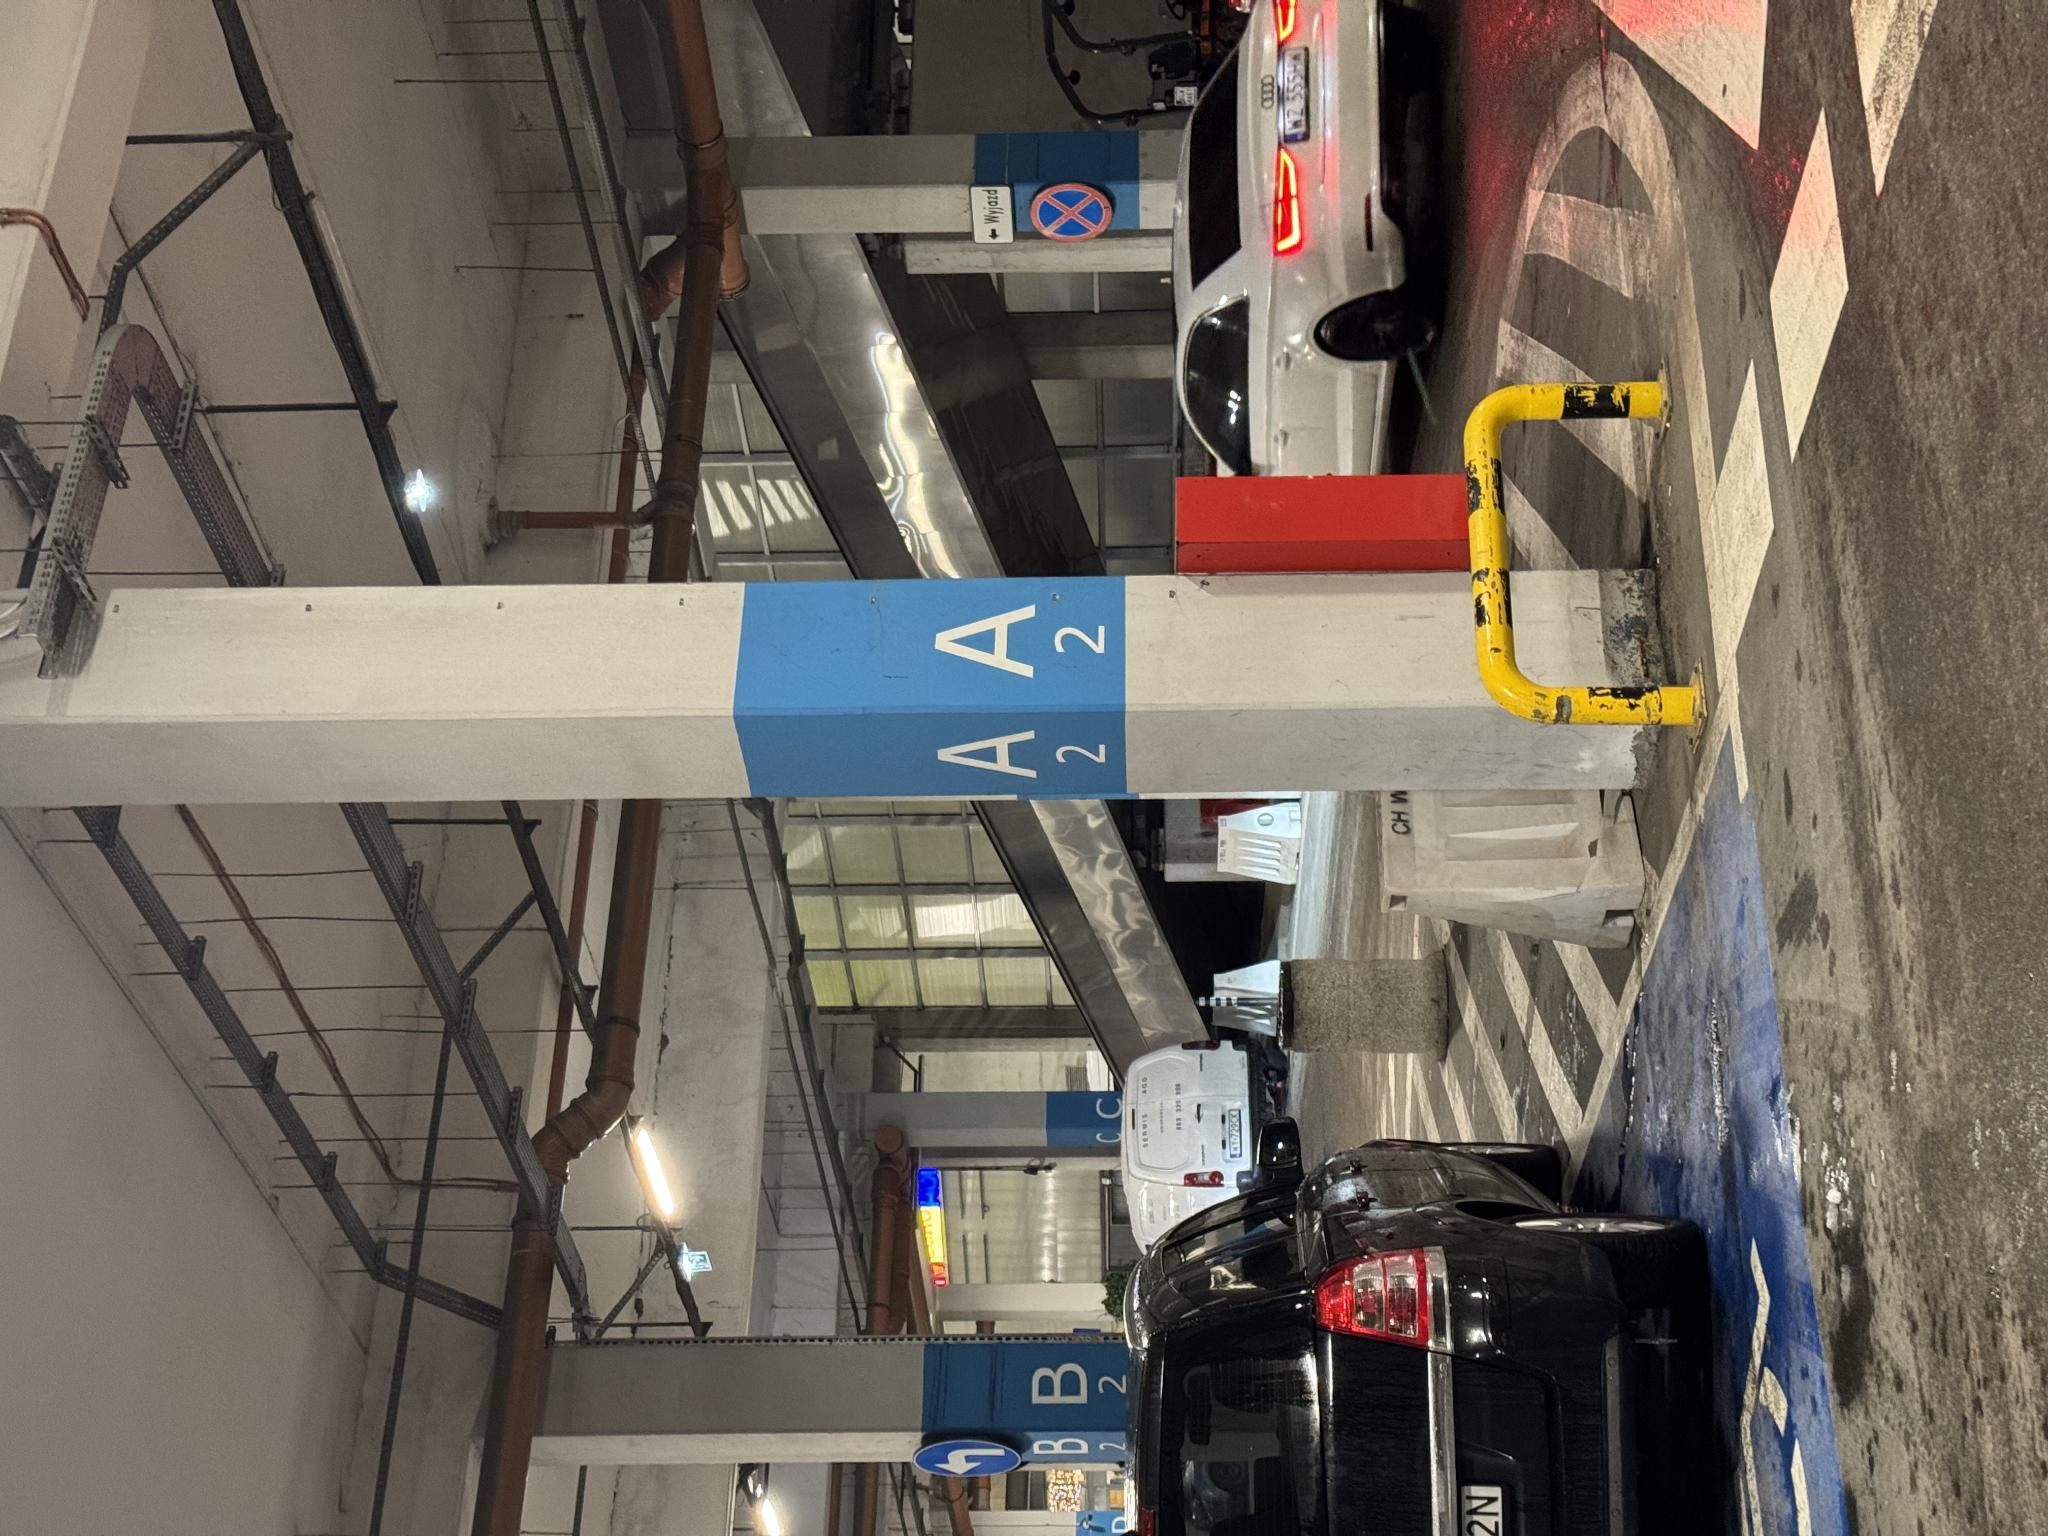mandatory: (56, 912, 98, 1021)
other: (1292, 968, 1351, 1015)
prohibitory: (1293, 1028, 1353, 1115)
